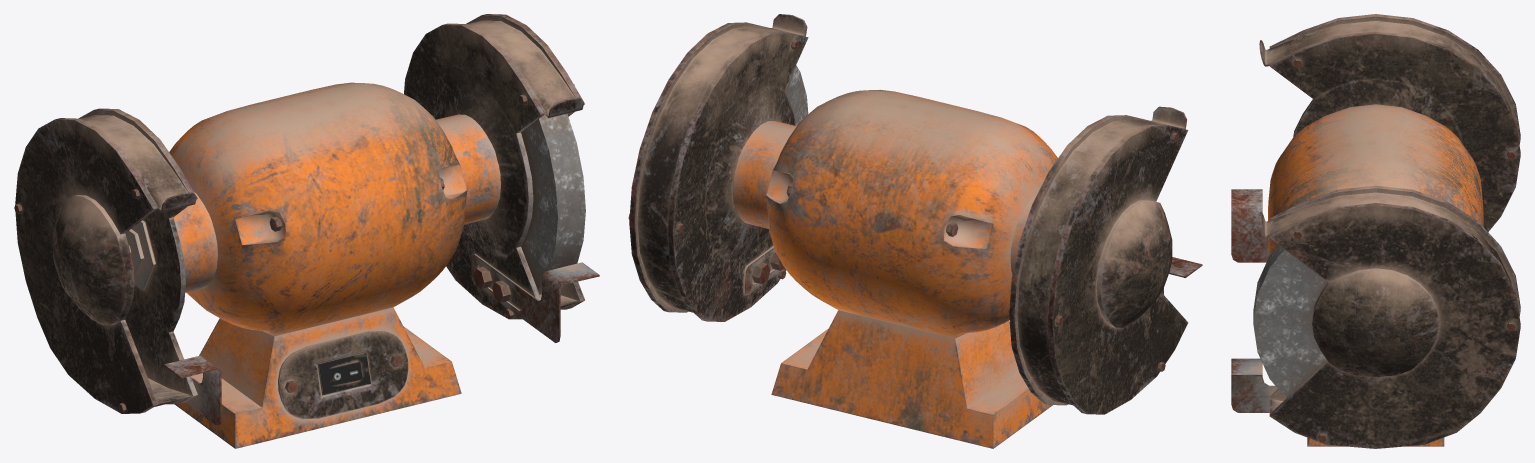
The model's file is grinder.glb.
3 renders of one model, left to right at view 1: azimuth 30°, elevation 25°; view 2: azimuth 150°, elevation 25°; view 3: azimuth 270°, elevation 25°, orthographic. The views are drawn at different scales.
Parts seen in each view (by area): view 1: SM_Grinder; view 2: SM_Grinder; view 3: SM_Grinder.
Boxes of the visible parts, box(x1,y1,x2,y2) form: SM_Grinder: box(14, 14, 599, 448); SM_Grinder: box(628, 14, 1202, 448); SM_Grinder: box(1231, 14, 1520, 448).
Bounding box in the file's own units: 928 × 573 × 524.
Materials: 1 (1 with a texture image).
